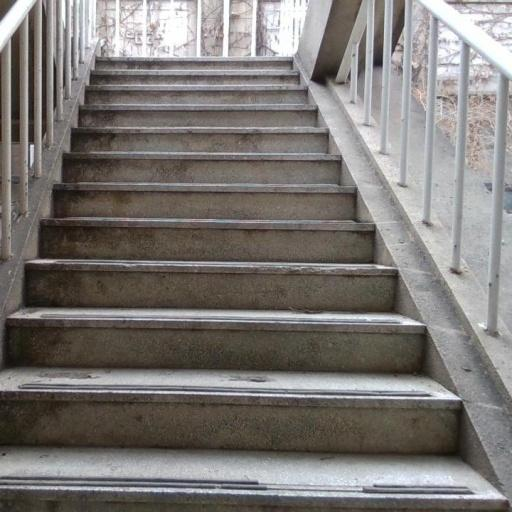stairs: (0, 59, 506, 511)
